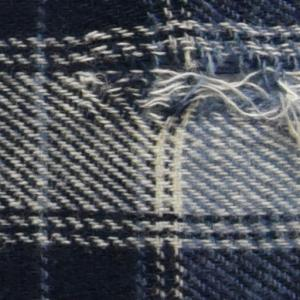Damage: (59, 5, 300, 158)
